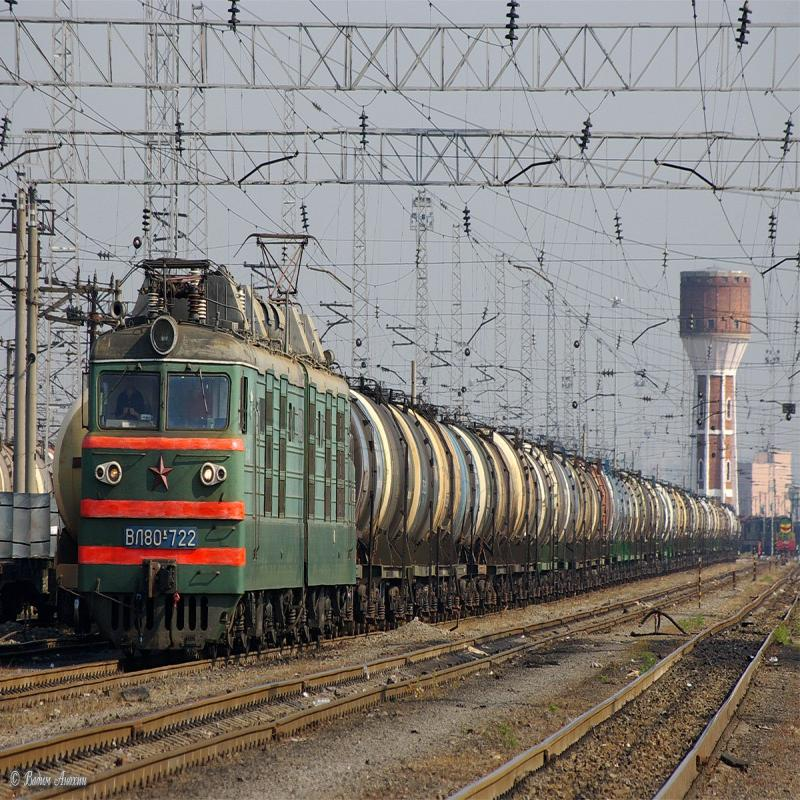train: (42, 247, 366, 663), (348, 371, 462, 654), (439, 404, 541, 623)
